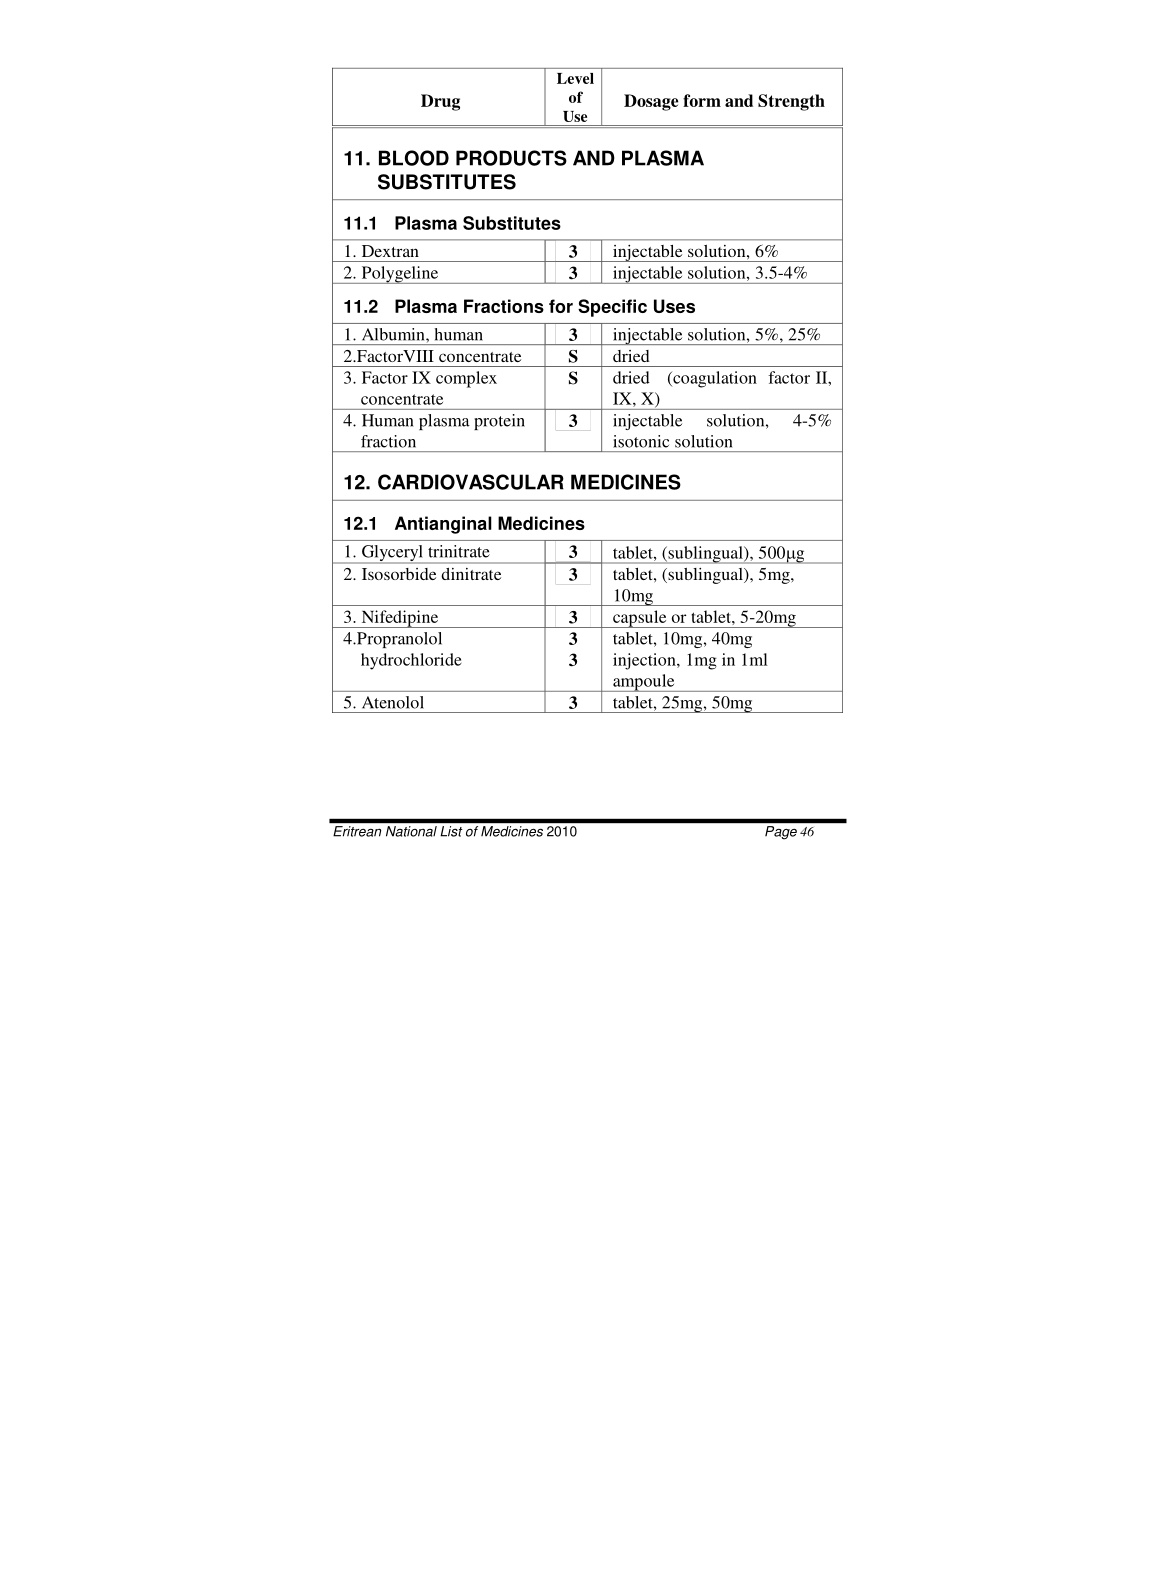merged_cells: (331, 67, 842, 714)
